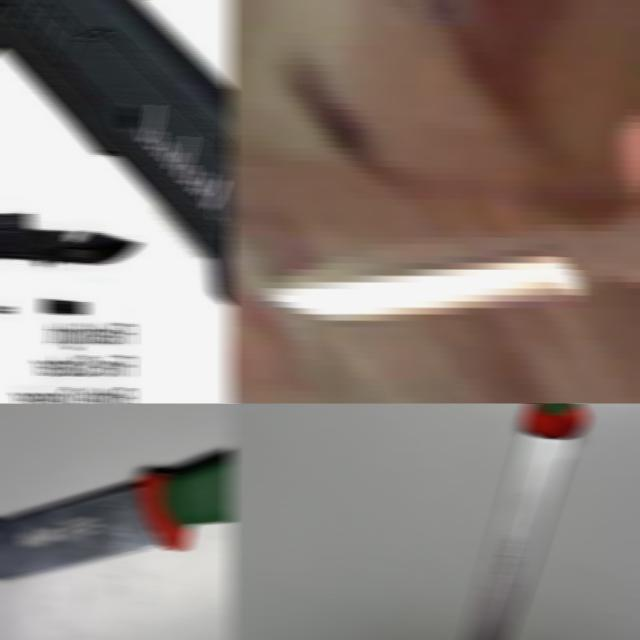Knife: (0, 0, 233, 303), (0, 448, 233, 579), (462, 403, 588, 640), (0, 213, 138, 266)
Knife_Handle: (257, 80, 640, 400)
